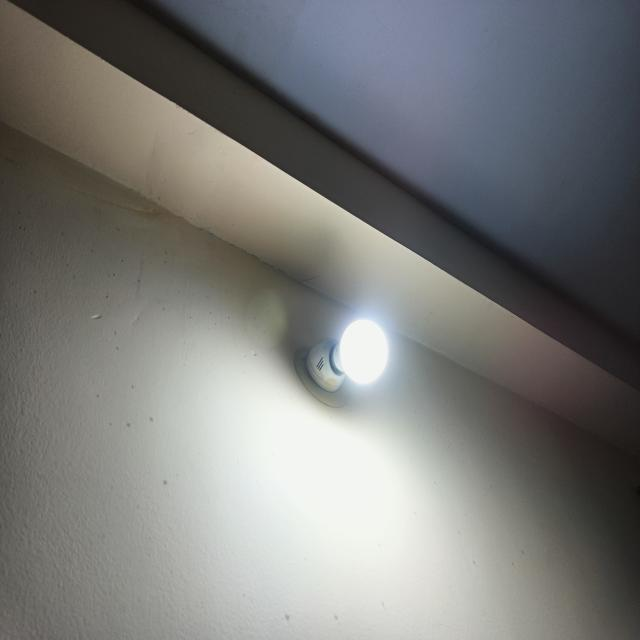bulb_on: (338, 316, 390, 387)
